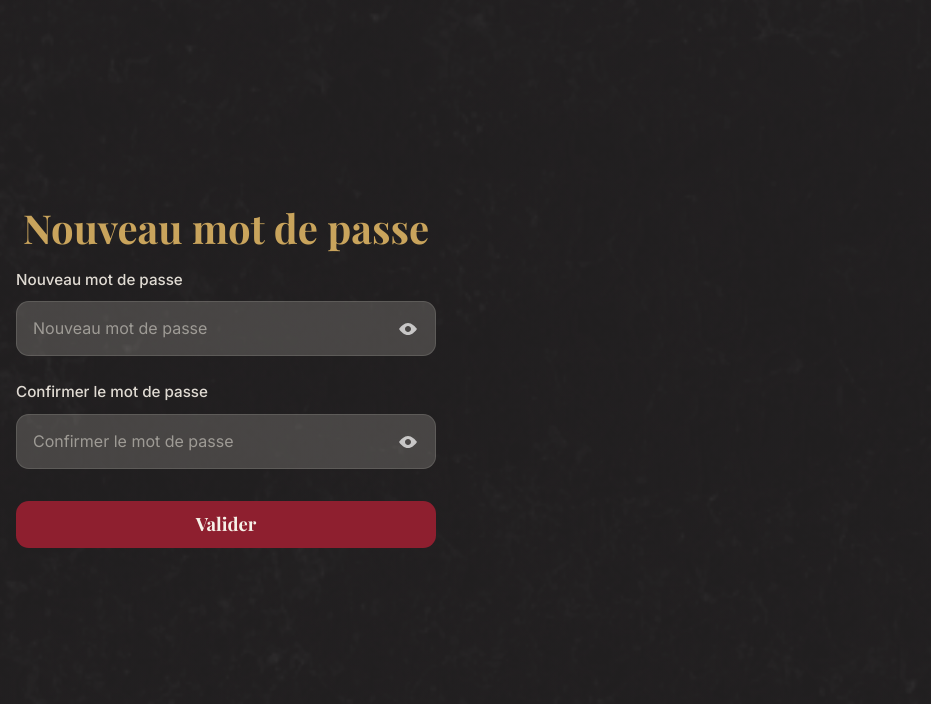
Test: ResetPassword › affiche un message d'erreur générique si l'API ne précise pas l'erreur
The image size is (931, 704).
Step 1. Type "MonMdp1234!" into the password field labelled "Nouveau mot de passe" → (226, 329), box 16,301 -> 436,356
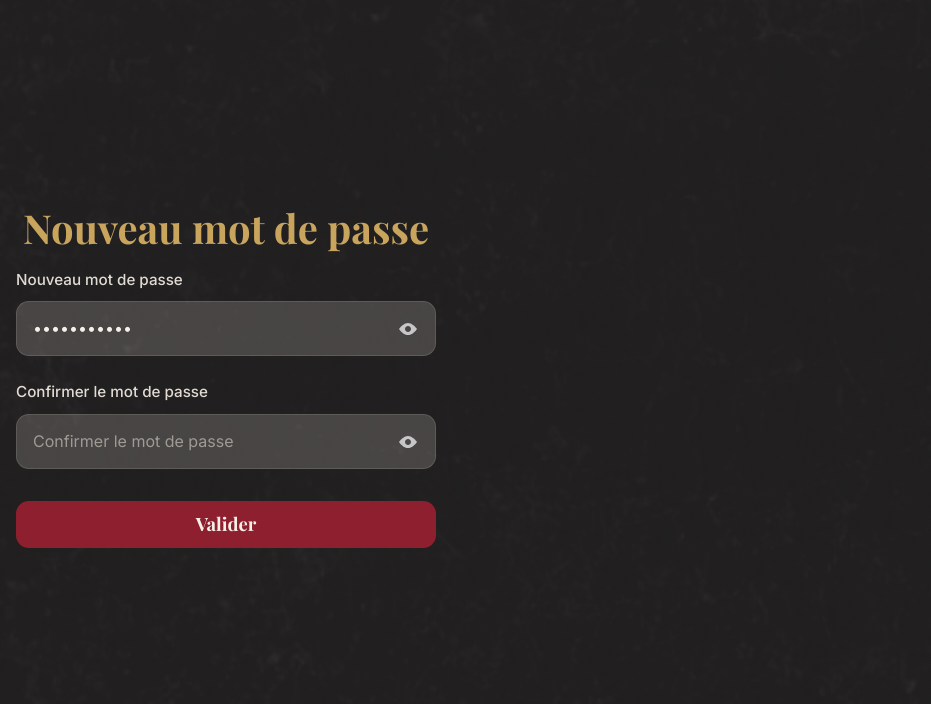
Step 2. Type "MonMdp1234!" into the password field labelled "Confirmer le mot de passe" → (226, 442), box 16,414 -> 436,469
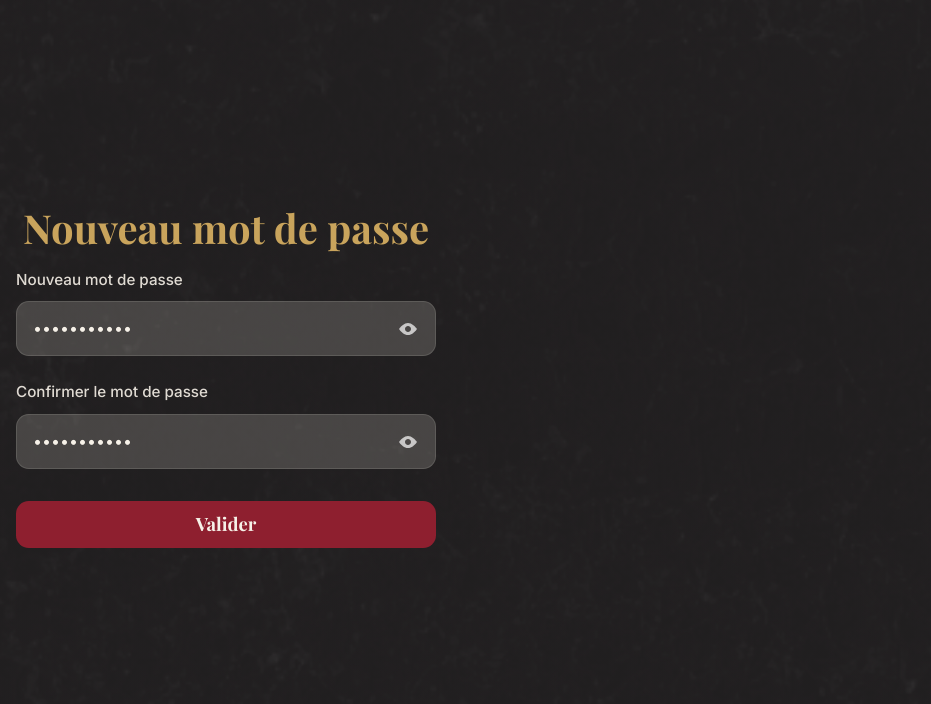
Step 3. Click the button "Valider" → (226, 525), box 16,501 -> 436,548
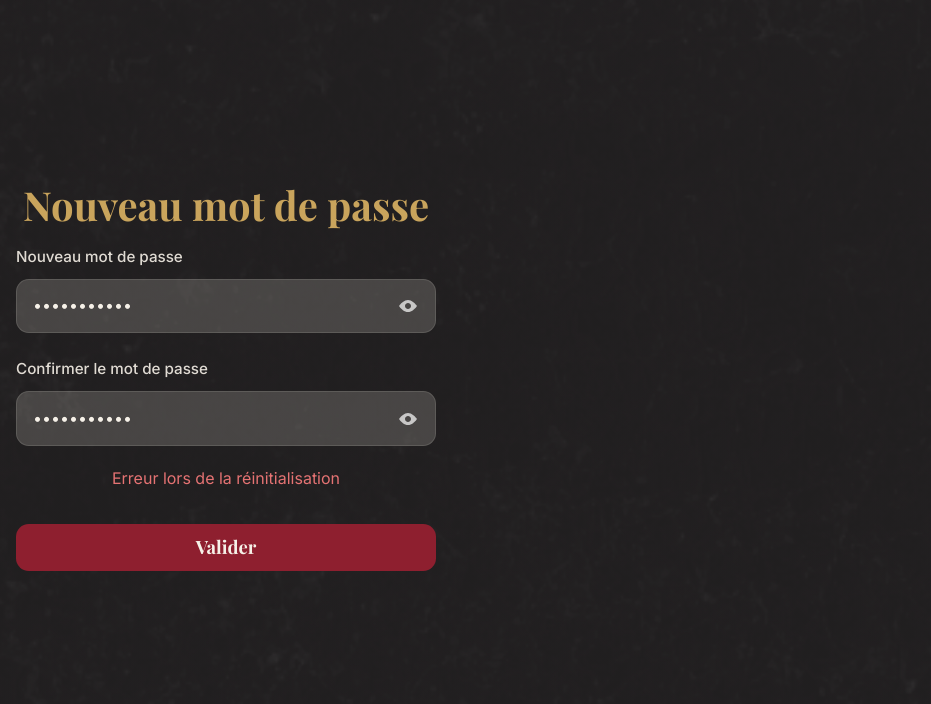
Expected: the text "Erreur lors de la réinitialisation" is shown, 112,468 -> 340,488
